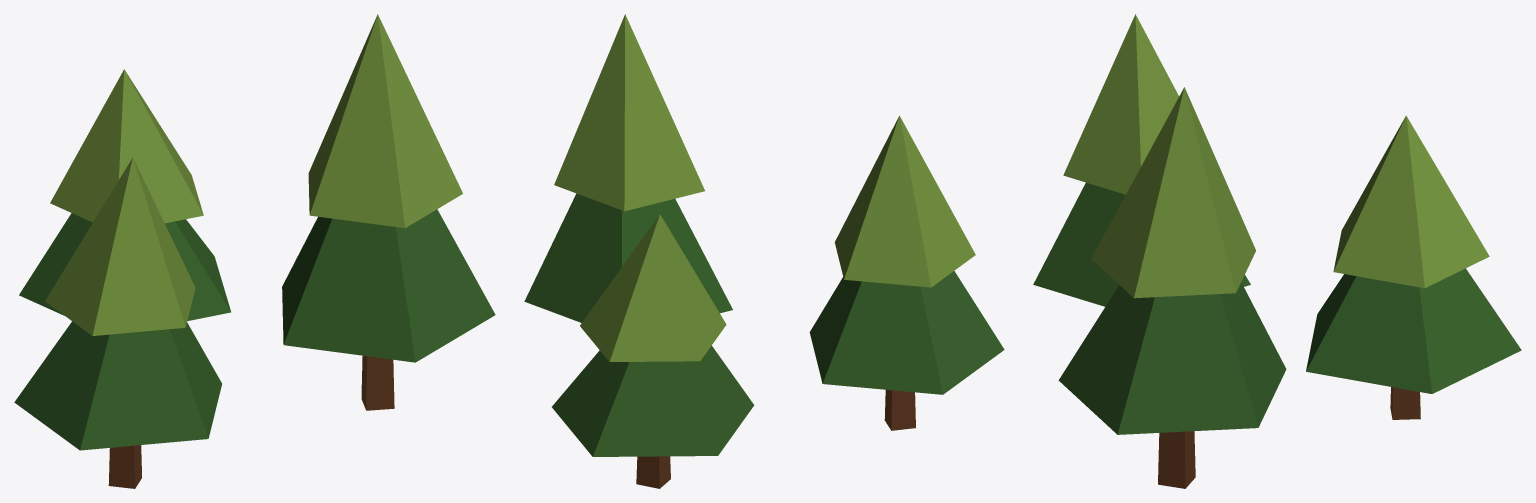
The model's file is PineGrove.fbx.
The picture shows the model from 3 angles, left to right: view 1: azimuth 30°, elevation 25°; view 2: azimuth 150°, elevation 25°; view 3: azimuth 270°, elevation 25°; orthographic projection. The views are drawn at different scales.
Visible parts, largest first — view 1: PineGrove; view 2: PineGrove; view 3: PineGrove.
Boxes of the visible parts, box(x1,y1,x2,y2) form: PineGrove: box(14, 14, 495, 488); PineGrove: box(524, 14, 1004, 488); PineGrove: box(1033, 14, 1521, 488).
Size of the model in its own units: 74.53 by 63 by 70.48.
